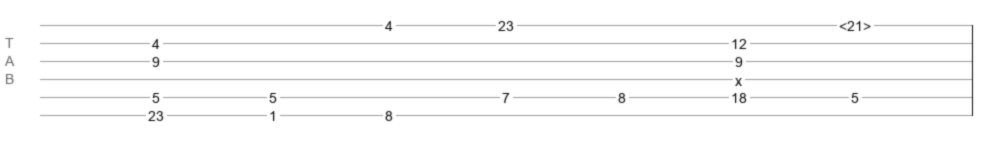1: (269, 108, 277, 118)
12: (731, 36, 747, 46)
18: (731, 90, 747, 100)
23: (148, 108, 164, 118), (498, 18, 514, 28)
4: (152, 36, 160, 46), (385, 18, 393, 28)
5: (152, 90, 160, 100), (269, 90, 277, 100), (851, 90, 859, 100)
7: (502, 90, 510, 100)
8: (385, 108, 393, 118), (618, 90, 626, 100)
9: (152, 54, 160, 64), (735, 54, 743, 64)
harmonic: (839, 18, 871, 28)
x: (735, 73, 742, 81)
